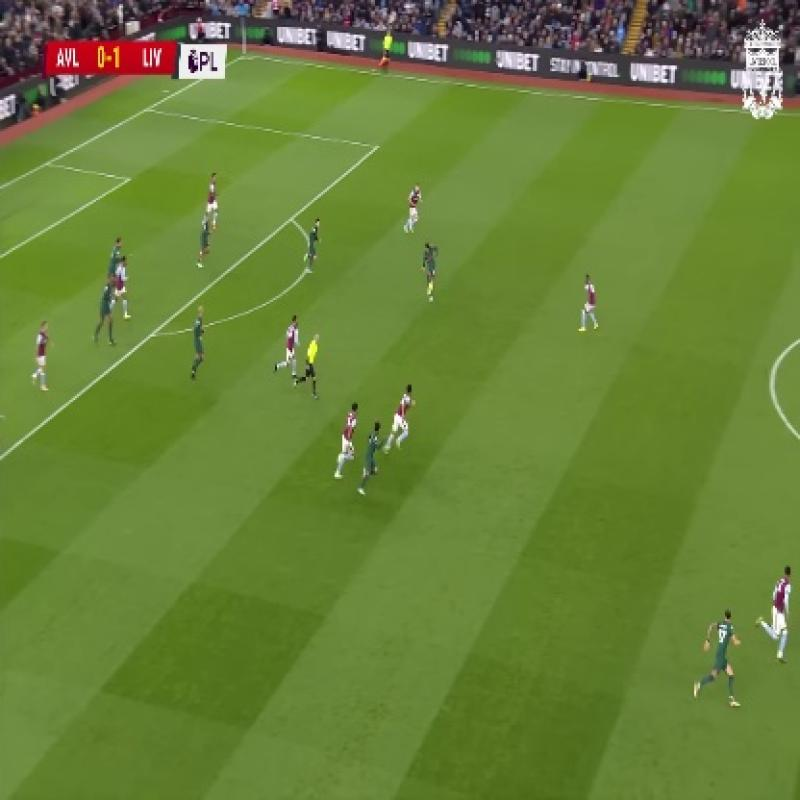1: (241, 50, 254, 60)
10: (282, 208, 296, 227)
11: (146, 324, 160, 342)
2: (138, 102, 152, 115)
3: (38, 154, 54, 172)
7: (121, 169, 135, 187)
9: (370, 136, 382, 154)
c: (754, 347, 790, 412)
